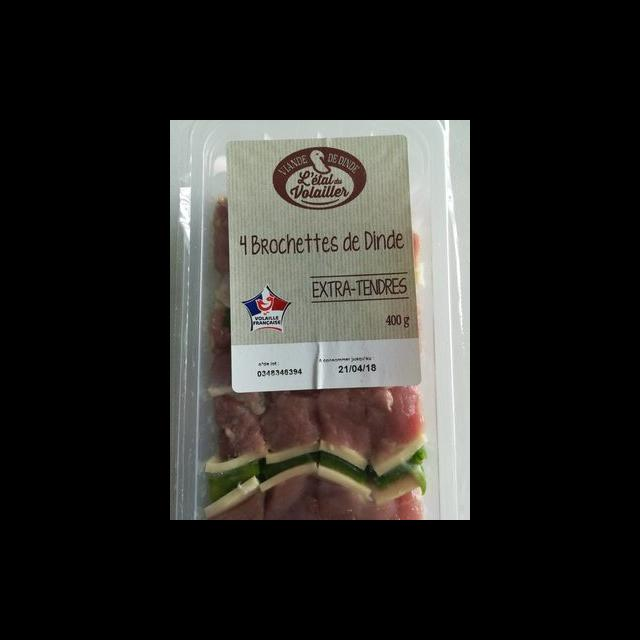beef: (264, 386, 421, 449), (215, 480, 425, 520), (217, 394, 268, 454)
